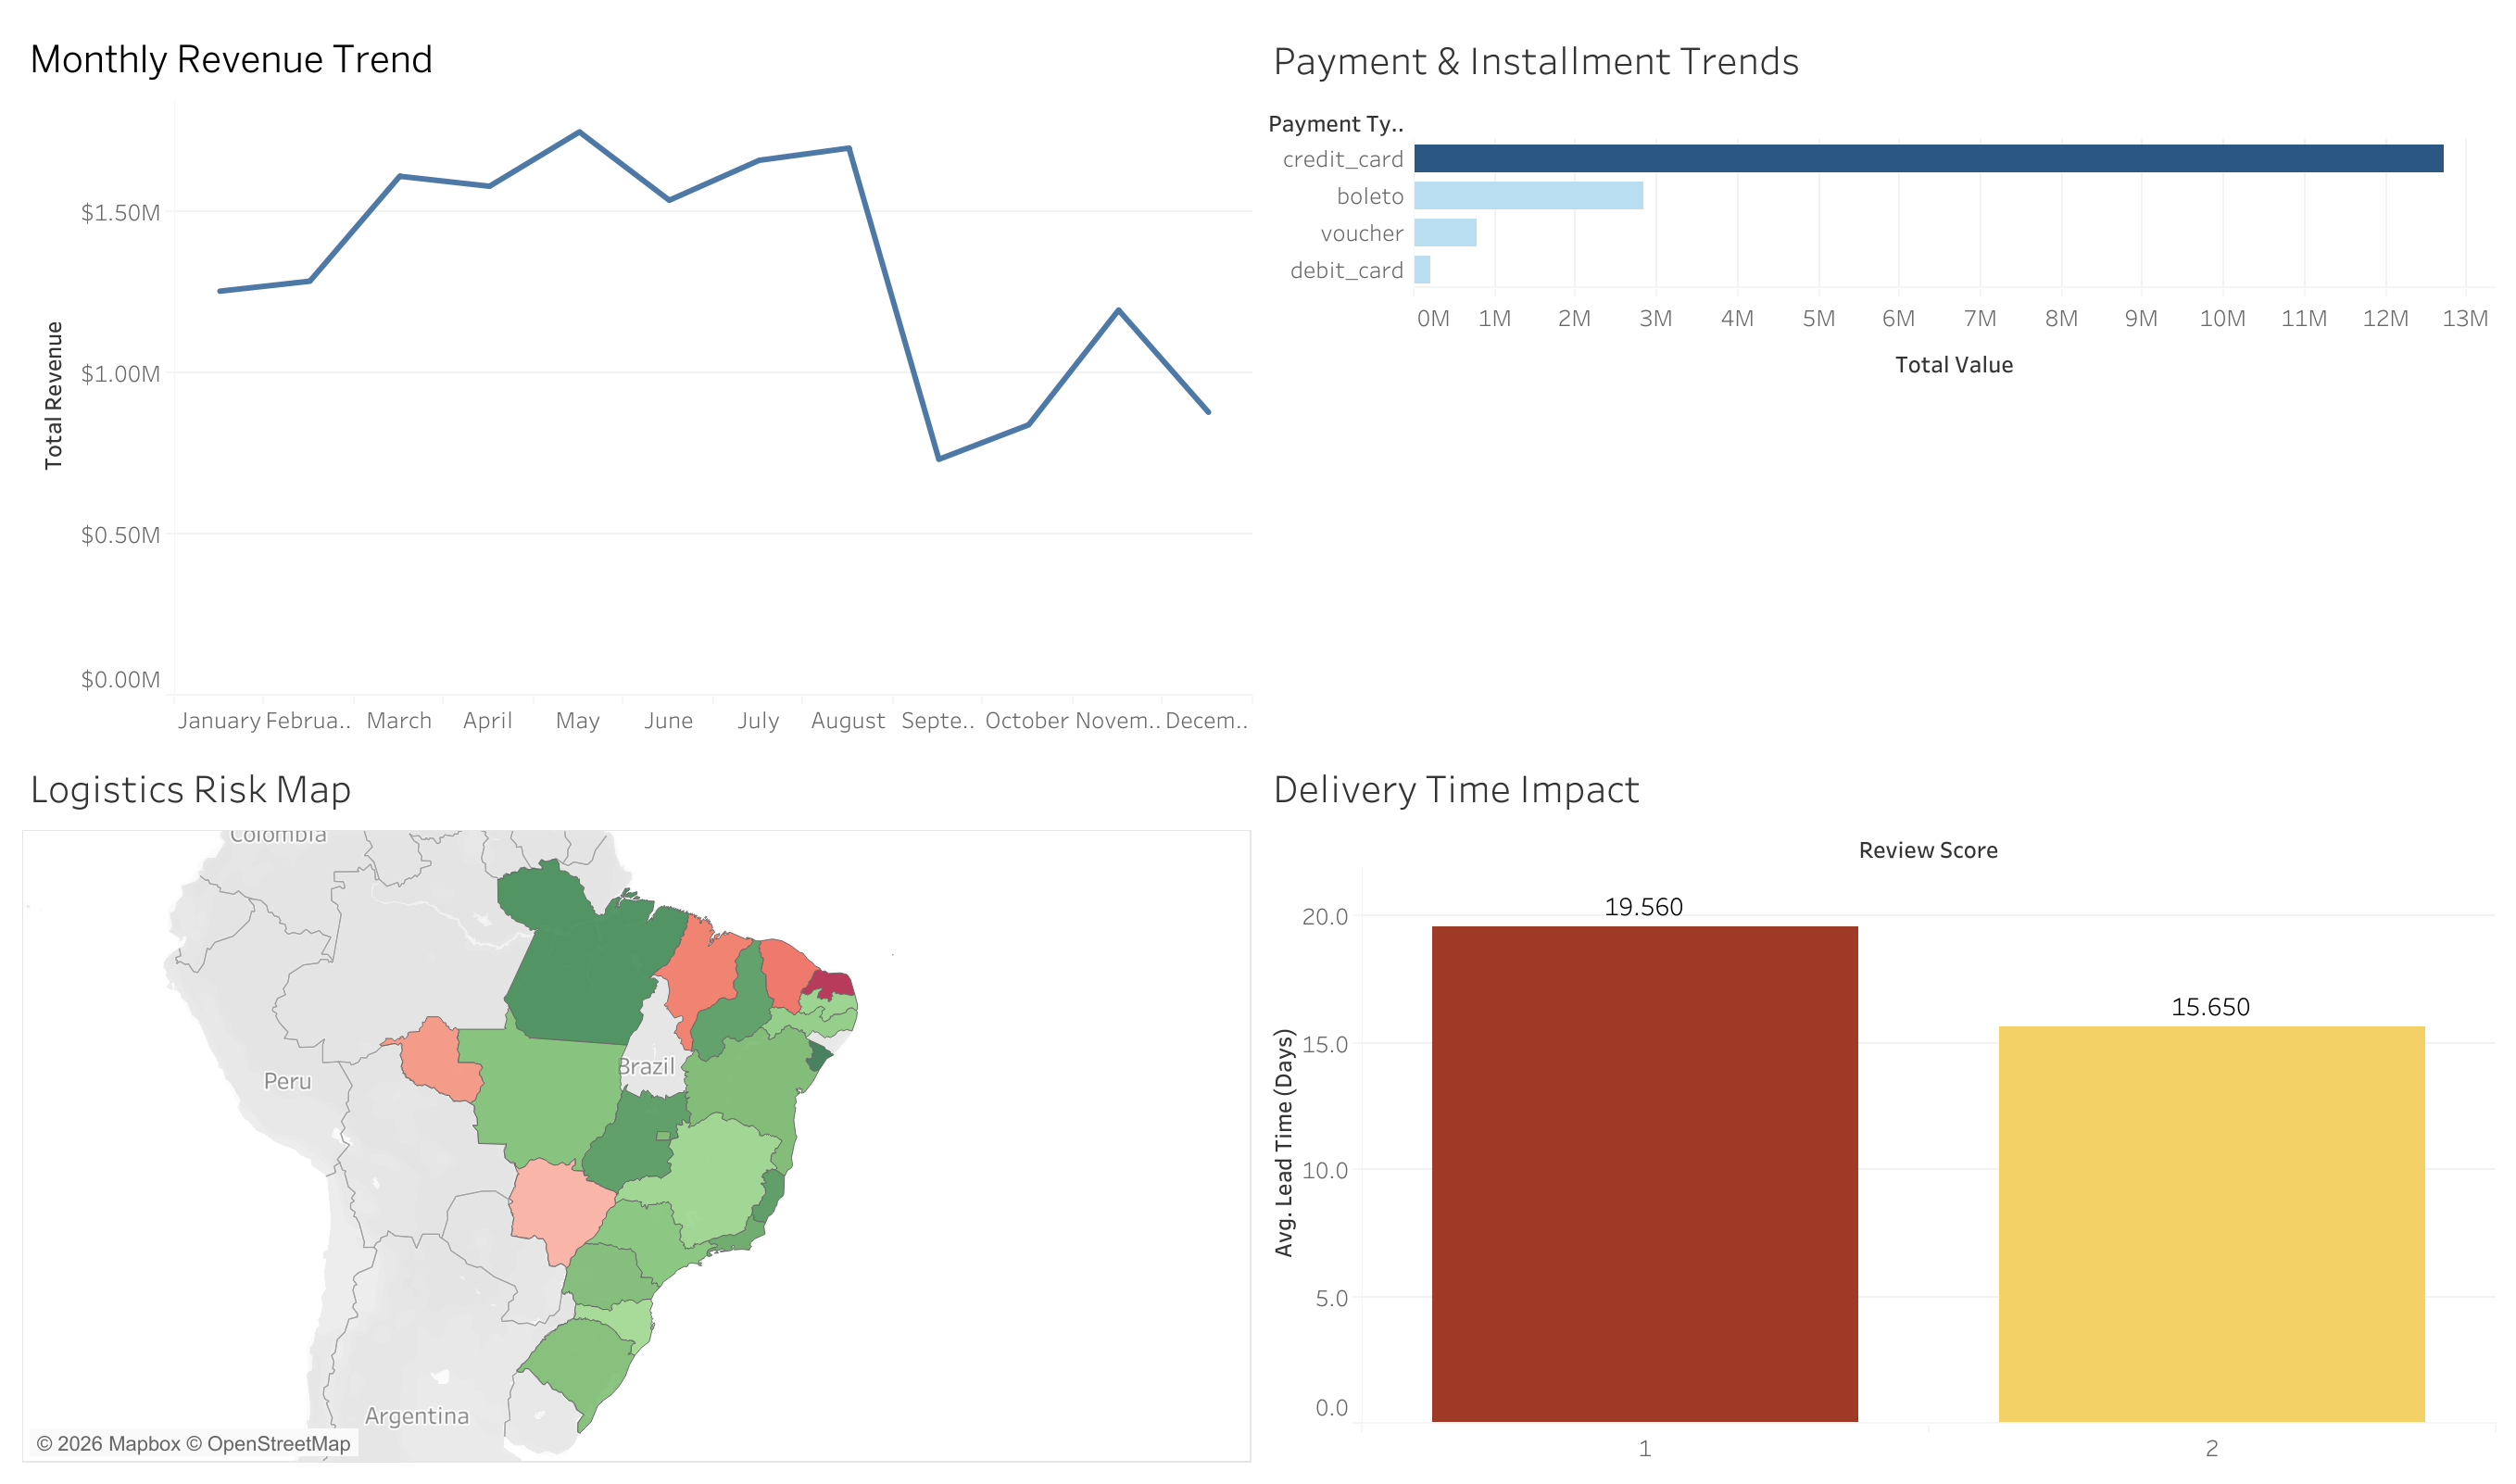

What the dashboard file says about the page in this screenshot:
{"tool":"tableau","page":{"name":"Dashboard 1","canvas":[1000,1000],"units":"permille","ordinal":0},"visuals":[{"type":"worksheet","title":"Monthly Revenue Trend","mark":"Automatic","rows":["total_revenue"],"cols":["monthly_orders"],"box":[6.4,10,493.7,490]},{"type":"worksheet","title":"Payment & Installment Trends","mark":"Automatic","rows":["payment_type"],"cols":["total_cost"],"box":[500,10,493.7,490]},{"type":"worksheet","title":"Logistics Risk Map","mark":"Multipolygon","box":[6.4,500,493.7,490]},{"type":"worksheet","title":"Delivery Time Impact","mark":"Bar","rows":["avg_lead_time"],"cols":["review_score"],"box":[500,500,493.7,490]}]}

Visuals, with their boxes on the dashboard's canvas, which has no fixed pixel size, in thousandths of its width and height (x1, y1, x2, y2). These are canvas units, not pixel positions in the 2516x1484 screenshot, which may show the page scaled, cropped or inside an application window:
"Monthly Revenue Trend" worksheet: [6, 10, 500, 500]
"Payment & Installment Trends" worksheet: [500, 10, 994, 500]
"Logistics Risk Map" worksheet (Multipolygon marks): [6, 500, 500, 990]
"Delivery Time Impact" worksheet (Bar marks): [500, 500, 994, 990]
